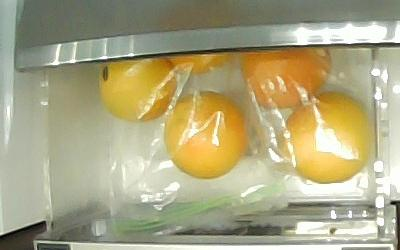grapefruit_vinyl: (278, 89, 371, 183), (163, 89, 248, 179), (236, 50, 331, 108), (97, 61, 178, 121), (166, 52, 232, 74)
